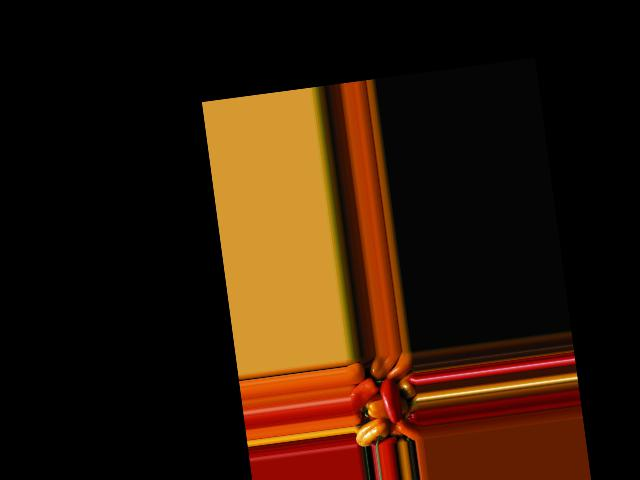bell_pepper: (354, 415, 388, 448)
